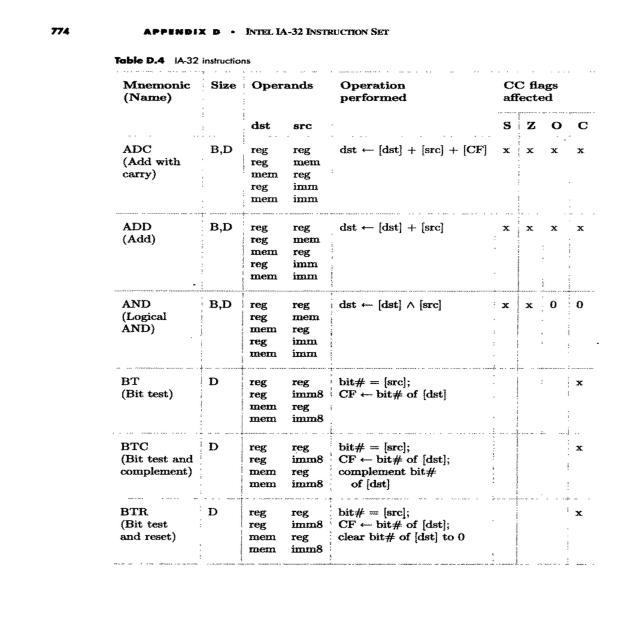diagram: (92, 44, 640, 624)
